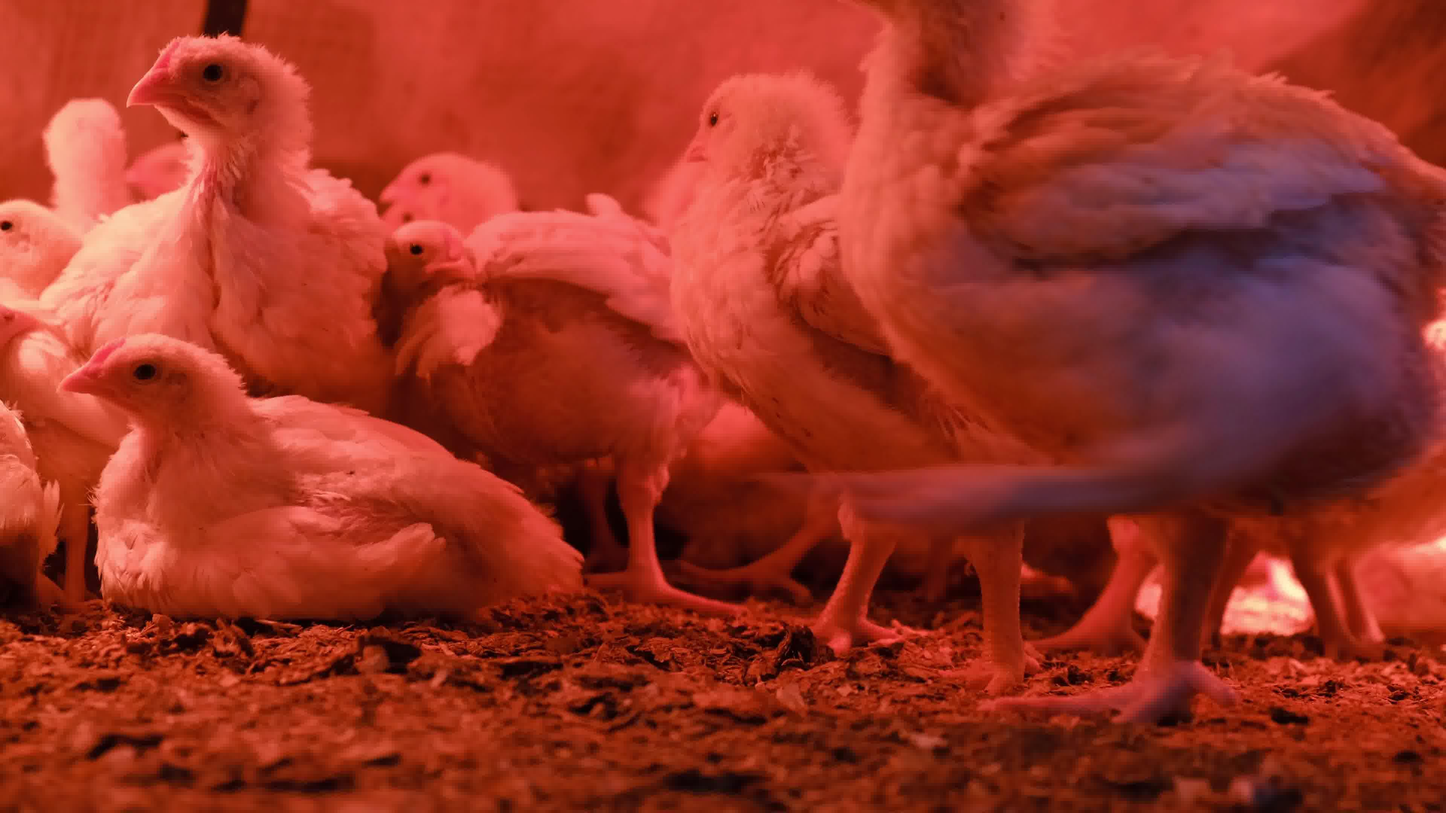AbNormal: (68, 326, 584, 640), (0, 254, 109, 655)
Normal: (843, 4, 1446, 749), (640, 60, 1066, 691), (426, 211, 770, 649), (90, 32, 410, 386), (360, 186, 508, 356), (122, 119, 265, 275), (28, 98, 160, 254), (384, 149, 555, 269), (0, 124, 104, 314)
